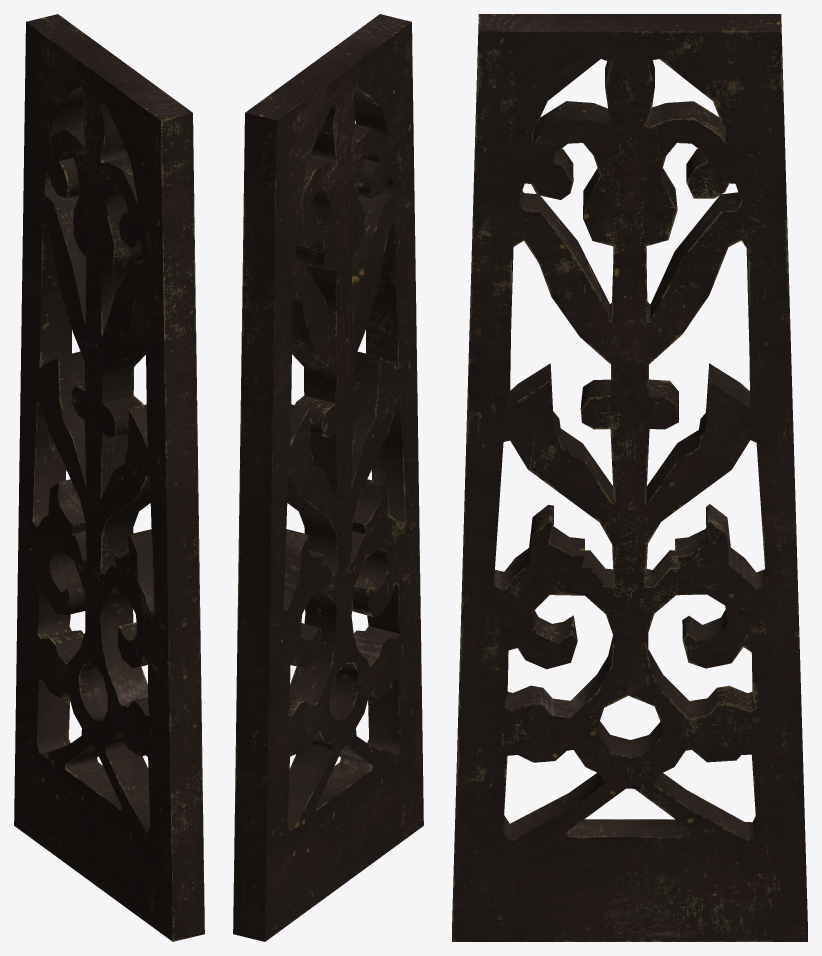
File: piece1.fbx
3 renders of one model, left to right at view 1: azimuth 30°, elevation 25°; view 2: azimuth 150°, elevation 25°; view 3: azimuth 270°, elevation 25°, orthographic. The views are drawn at different scales.
Parts seen in each view (by area): view 1: Cube_low.006; view 2: Cube_low.006; view 3: Cube_low.006.
Boxes of the visible parts, x1,y1,x2,y2 form: Cube_low.006: [14, 14, 204, 941]; Cube_low.006: [233, 14, 423, 941]; Cube_low.006: [452, 14, 807, 941].
Size of the model in its own units: 9.14 by 222 by 78.5.
